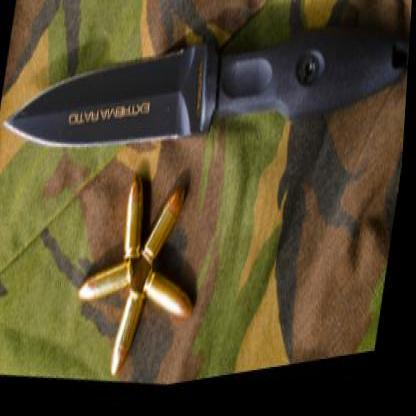knife: (0, 0, 230, 195)
